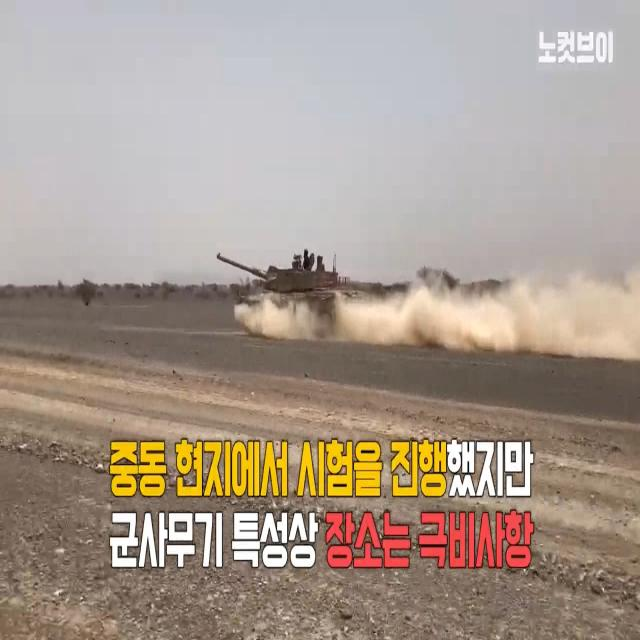korea tank: (215, 246, 367, 334)
